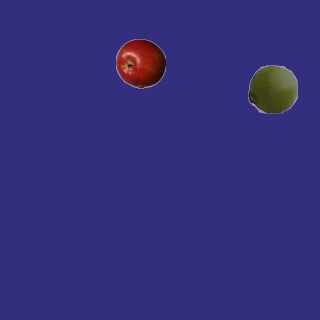Apple Braeburn: (115, 38, 165, 88)
Grape White 4: (247, 63, 297, 113)
